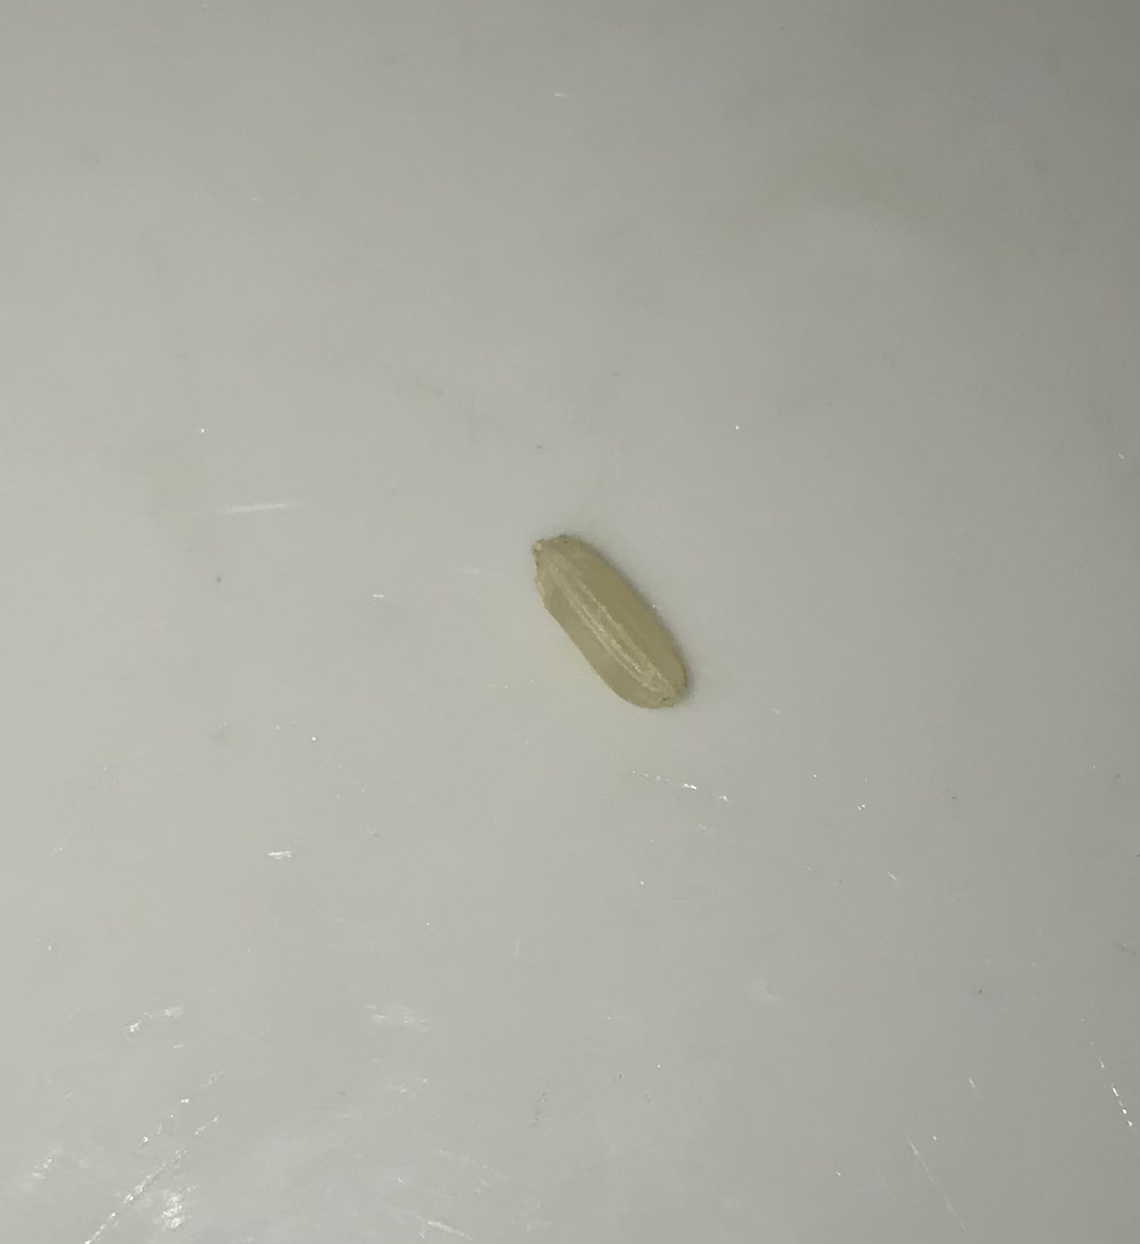Gao Lut Trang: (509, 507, 715, 715)
